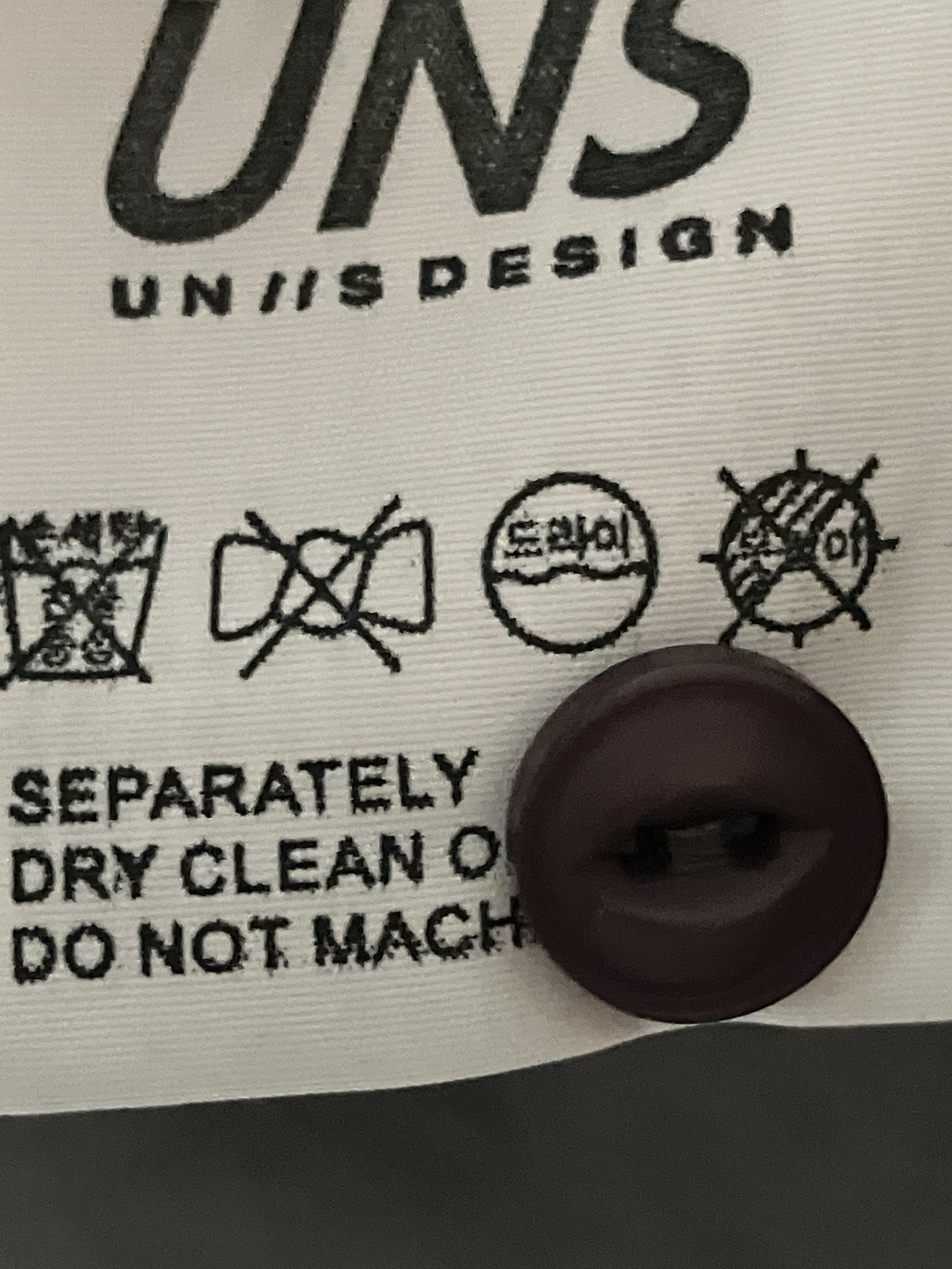KR_dry_clean: (470, 457, 661, 654)
KR_hang_dry_in_shade: (712, 444, 903, 646)
KR_no_wring: (196, 482, 440, 659)
